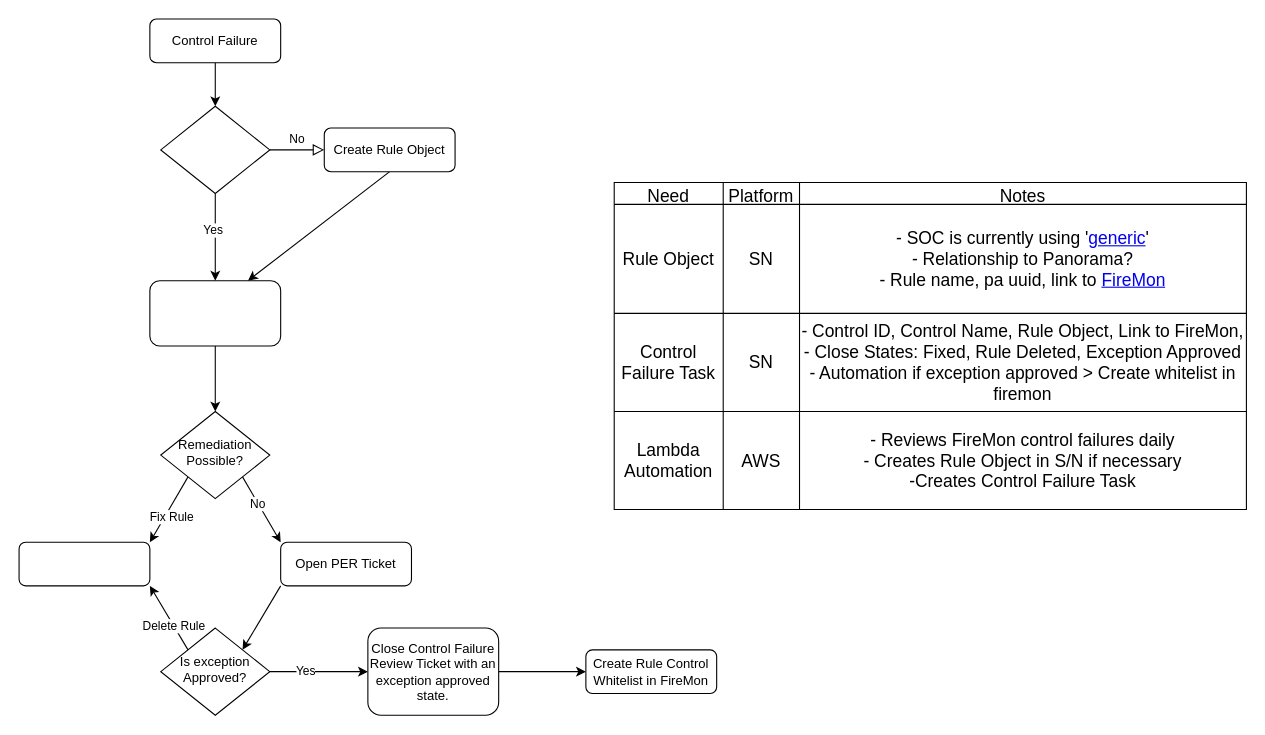
Some shapes in this 1265 by 735 pixel diagram are drawn without their labels. Here are the shapes that lost their labels. From the top down, the centre of each, then its label:
(x=215, y=149): Check SN for rule existence?
(x=215, y=313): Associate control failure review task
(x=84, y=563): Close Control Failure Review Task
